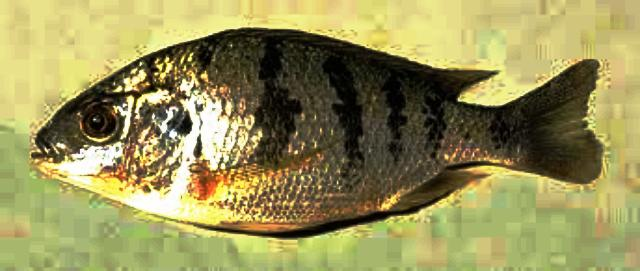Healthy Fish: (32, 28, 607, 240)
